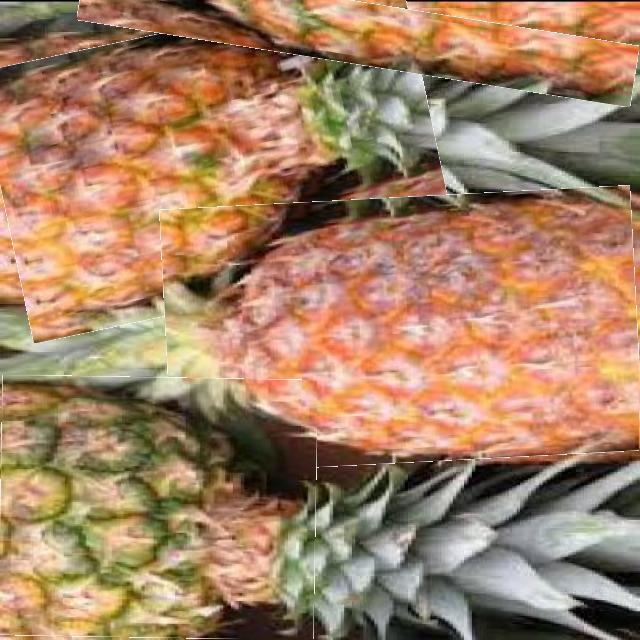Pineapple: (0, 3, 447, 322), (162, 190, 640, 468), (0, 376, 316, 639), (78, 0, 639, 85)
